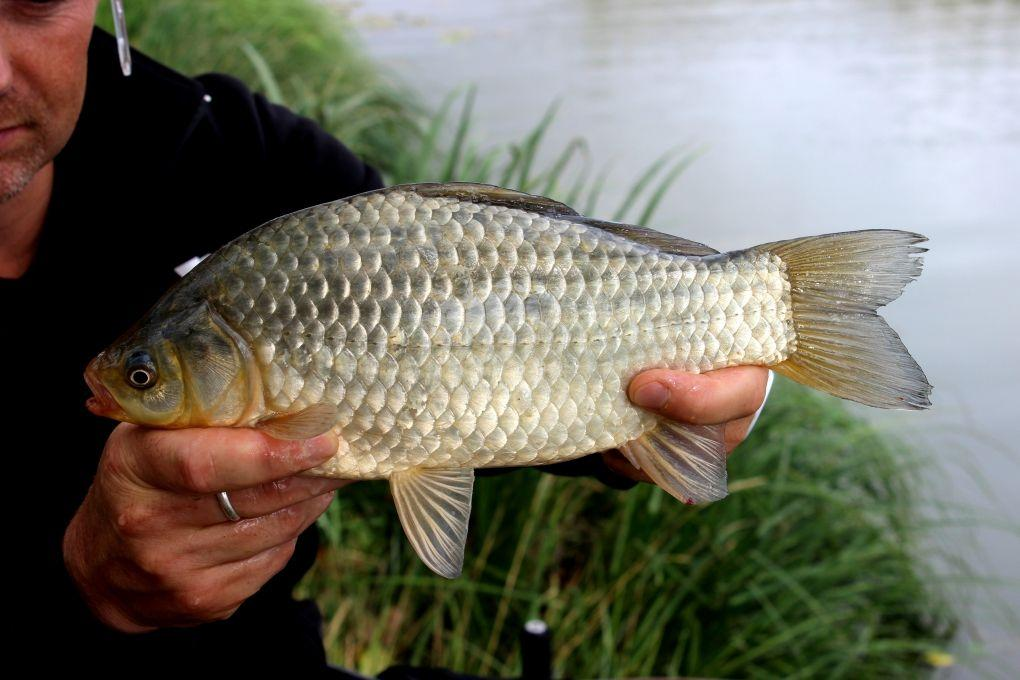Grass Carp: (79, 180, 935, 575)
